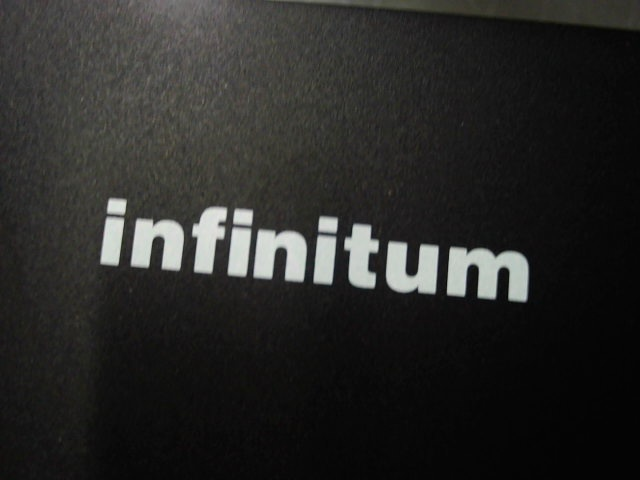BK_infinitum: (91, 195, 543, 314)
